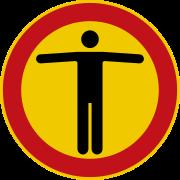Pedestrian Prohibited: (6, 3, 180, 179)
